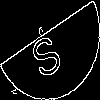S: (25, 25, 65, 81)
